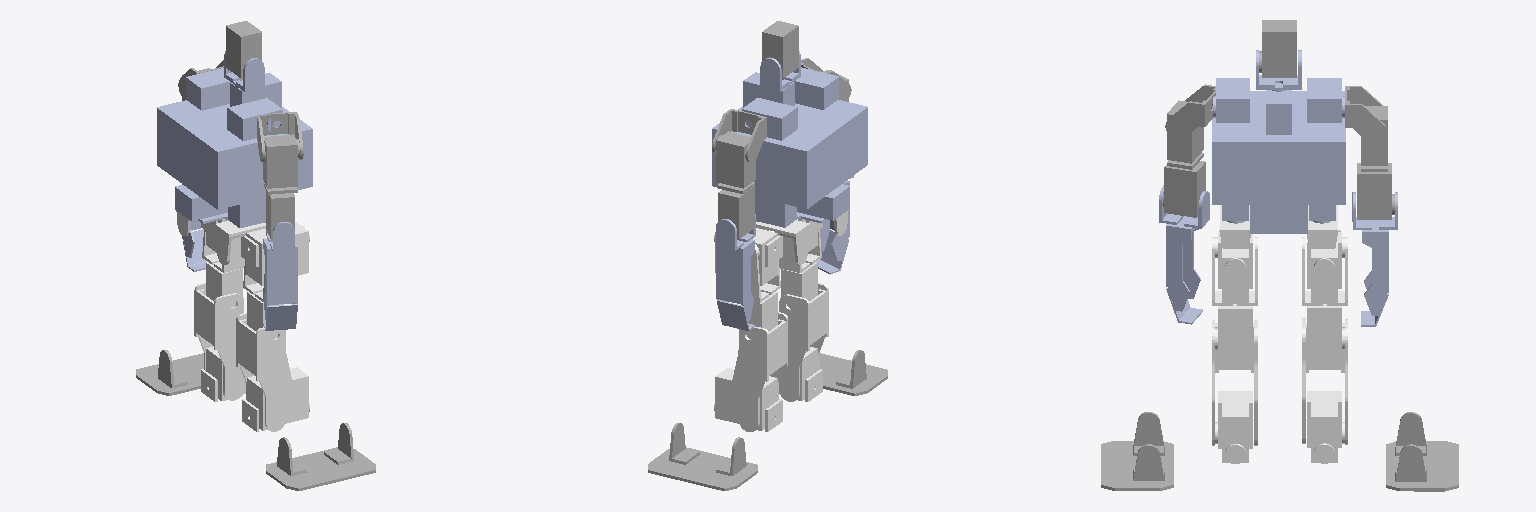
--- Facts derived from the render (not from the file) ---
Views: 3 orthographic renders of the robot side by side, from view 1: azimuth 30°, elevation 25°; view 2: azimuth 150°, elevation 25°; view 3: azimuth 270°, elevation 25°.
Robot: Dreko — 21 links, 20 joints (20 revolute); root link chest; default pose: all joints at 0.
Visible links, largest first — view 1: chest, right knee pitch, right ankle roll, left knee pitch, Right Gripper, Right Shoulder Roll, left ankle roll, right ankle pitch, left hip pitch, right hip roll, Head, Right_Shoulder_pitch (+5 smaller); view 2: chest, left knee pitch, left ankle roll, Left Gripper, Left Shoulder Roll, right knee pitch, right ankle roll, left ankle pitch, right hip pitch, left hip pitch, Head, Left Shoulder Pitch (+5 smaller); view 3: chest, left ankle roll, right ankle roll, Right Gripper, Right Shoulder Roll, Left Shoulder Roll, Left Gripper, right ankle pitch, left ankle pitch, right hip pitch, left hip pitch, Head (+9 smaller).
Boxes of the visible links, x1,y1,x2,y2 form: chest: (157,68,312,227); right knee pitch: (236,313,291,431); right ankle roll: (266,423,375,490); left knee pitch: (194,282,244,400); Right Gripper: (263,222,297,330); Right Shoulder Roll: (263,135,299,239); left ankle roll: (136,350,203,395); right ankle pitch: (242,367,309,431); left hip pitch: (202,219,244,306); right hip roll: (241,222,309,285); Head: (226,21,261,78); Right_Shoulder_pitch: (257,112,303,161); chest: (712,67,867,227); left knee pitch: (732,312,787,431); left ankle roll: (648,423,757,490); Left Gripper: (716,214,755,330); Left Shoulder Roll: (715,131,755,239); right knee pitch: (779,283,828,401); right ankle roll: (820,350,887,395); left ankle pitch: (714,368,782,431); right hip pitch: (779,219,821,308); left hip pitch: (746,229,780,338); Head: (762,21,798,78); Left Shoulder Pitch: (712,109,766,162); chest: (1212,78,1345,233); left ankle roll: (1386,412,1458,491); right ankle roll: (1101,412,1173,490); Right Gripper: (1159,185,1209,324); Right Shoulder Roll: (1163,100,1205,217); Left Shoulder Roll: (1357,106,1394,219); Left Gripper: (1352,192,1397,326); right ankle pitch: (1215,391,1252,463); left ankle pitch: (1307,391,1344,463); right hip pitch: (1212,237,1257,354); left hip pitch: (1302,237,1347,353); Head: (1259,20,1296,77).
Bounding box of the posed robot: 0.1327 × 0.3168 × 0.4258 m (x, y, z).
21 mesh visuals loaded from 21 distinct referenced files (21 binary STL).

robot.urdf — Dreko:
<robot
  name="Dreko">
  <link
    name="chest">
    <inertial>
      <origin
        xyz="0.0386669273658683 0.0140884820081456 0.290215764272227"
        rpy="0 0 0" />
      <mass
        value="0.740822124104116" />
      <inertia
        ixx="0.00152118060694842"
        ixy="-1.89735380184963E-18"
        ixz="6.06177382028129E-05"
        iyy="0.00131882473361287"
        iyz="2.71050543121376E-20"
        izz="0.00140522500372438" />
    </inertial>
    <visual>
      <origin
        xyz="0 0 0"
        rpy="0 0 0" />
      <geometry>
        <mesh
          filename="package://Dreko/meshes/chest.STL" />
      </geometry>
      <material
        name="">
        <color
          rgba="0.792156862745098 0.819607843137255 0.933333333333333 1" />
      </material>
    </visual>
    <collision>
      <origin
        xyz="0 0 0"
        rpy="0 0 0" />
      <geometry>
        <mesh
          filename="package://Dreko/meshes/chest.STL" />
      </geometry>
    </collision>
  </link>
  <link
    name="right hip yaw">
    <inertial>
      <origin
        xyz="-2.00031521237903E-05 0.0126391664016347 -0.0199633931822752"
        rpy="0 0 0" />
      <mass
        value="0.0155182096184455" />
      <inertia
        ixx="1.27383758643282E-05"
        ixy="-8.49150529622436E-20"
        ixz="6.35274710440725E-22"
        iyy="2.34004190539271E-06"
        iyz="-1.51404969675395E-08"
        izz="1.22052488200629E-05" />
    </inertial>
    <visual>
      <origin
        xyz="0 0 0"
        rpy="0 0 0" />
      <geometry>
        <mesh
          filename="package://Dreko/meshes/right hip yaw.STL" />
      </geometry>
      <material
        name="">
        <color
          rgba="1 1 1 1" />
      </material>
    </visual>
    <collision>
      <origin
        xyz="0 0 0"
        rpy="0 0 0" />
      <geometry>
        <mesh
          filename="package://Dreko/meshes/right hip yaw.STL" />
      </geometry>
    </collision>
  </link>
  <joint
    name="right hip yaw"
    type="revolute">
    <origin
      xyz="0.0499881209354321 -0.024401521143979 0.209414700698158"
      rpy="-3.14159265358979 8.88178419700125E-16 -1.57079632679488" />
    <parent
      link="chest" />
    <child
      link="right hip yaw" />
    <axis
      xyz="0 0 1" />
  </joint>
  <link
    name="right hip roll">
    <inertial>
      <origin
        xyz="0.0122610037315669 -0.00019356743892851 0.012734593446106"
        rpy="0 0 0" />
      <mass
        value="0.0692005181830974" />
      <inertia
        ixx="2.36910155439808E-05"
        ixy="1.46695929999879E-07"
        ixz="5.78090342943966E-07"
        iyy="3.0744764821142E-05"
        iyz="1.57059601561052E-07"
        izz="1.60316743915191E-05" />
    </inertial>
    <visual>
      <origin
        xyz="0 0 0"
        rpy="0 0 0" />
      <geometry>
        <mesh
          filename="package://Dreko/meshes/right hip roll.STL" />
      </geometry>
      <material
        name="">
        <color
          rgba="1 1 1 1" />
      </material>
    </visual>
    <collision>
      <origin
        xyz="0 0 0"
        rpy="0 0 0" />
      <geometry>
        <mesh
          filename="package://Dreko/meshes/right hip roll.STL" />
      </geometry>
    </collision>
  </link>
  <joint
    name="right hip roll"
    type="revolute">
    <origin
      xyz="0 0 0"
      rpy="1.5707963267949 -1.5707963267949 0" />
    <parent
      link="right hip yaw" />
    <child
      link="right hip roll" />
    <axis
      xyz="0 0 1" />
  </joint>
  <link
    name="right hip pitch">
    <inertial>
      <origin
        xyz="0.0644258242691838 0.000448849682669672 0.000371685382277762"
        rpy="0 0 0" />
      <mass
        value="0.0453826022606667" />
      <inertia
        ixx="8.44237699200824E-06"
        ixy="2.5237762848115E-07"
        ixz="1.49396394383443E-07"
        iyy="3.54510005946547E-05"
        iyz="1.22957827408421E-11"
        izz="3.11468056311057E-05" />
    </inertial>
    <visual>
      <origin
        xyz="0 0 0"
        rpy="0 0 0" />
      <geometry>
        <mesh
          filename="package://Dreko/meshes/right hip pitch.STL" />
      </geometry>
      <material
        name="">
        <color
          rgba="1 1 1 1" />
      </material>
    </visual>
    <collision>
      <origin
        xyz="0 0 0"
        rpy="0 0 0" />
      <geometry>
        <mesh
          filename="package://Dreko/meshes/right hip pitch.STL" />
      </geometry>
    </collision>
  </link>
  <joint
    name="right hip pitch"
    type="revolute">
    <origin
      xyz="0 0 0"
      rpy="1.5707963267949 5.55111512312578E-17 -2.77555756156289E-17" />
    <parent
      link="right hip roll" />
    <child
      link="right hip pitch" />
    <axis
      xyz="0 0 -1" />
  </joint>
  <link
    name="right knee pitch">
    <inertial>
      <origin
        xyz="0.0360433821800561 -0.00732939447238448 0.00170776679769151"
        rpy="0 0 0" />
      <mass
        value="0.0310504106720411" />
      <inertia
        ixx="1.31112864963239E-05"
        ixy="4.41749673249426E-06"
        ixz="-7.30565917006834E-21"
        iyy="3.61659917028807E-05"
        iyz="-3.3881317890172E-21"
        izz="3.05966878294176E-05" />
    </inertial>
    <visual>
      <origin
        xyz="0 0 0"
        rpy="0 0 0" />
      <geometry>
        <mesh
          filename="package://Dreko/meshes/right knee pitch.STL" />
      </geometry>
      <material
        name="">
        <color
          rgba="1 1 1 1" />
      </material>
    </visual>
    <collision>
      <origin
        xyz="0 0 0"
        rpy="0 0 0" />
      <geometry>
        <mesh
          filename="package://Dreko/meshes/right knee pitch.STL" />
      </geometry>
    </collision>
  </link>
  <joint
    name="right knee pitch"
    type="revolute">
    <origin
      xyz="0.0892760886206849 0.00188721596096714 -0.00108776364557142"
      rpy="1.0769163338864E-14 7.21644966006352E-16 8.88178419700126E-16" />
    <parent
      link="right hip pitch" />
    <child
      link="right knee pitch" />
    <axis
      xyz="0 0 1" />
  </joint>
  <link
    name="right ankle pitch">
    <inertial>
      <origin
        xyz="-0.0121336922782945 0.010799355323743 0.00344290774388731"
        rpy="0 0 0" />
      <mass
        value="0.0692005181830974" />
      <inertia
        ixx="2.36911816985084E-05"
        ixy="-5.78090342943989E-07"
        ixz="1.41842790503463E-07"
        iyy="1.60318405460471E-05"
        iyz="-1.42624304286741E-07"
        izz="3.07447648211417E-05" />
    </inertial>
    <visual>
      <origin
        xyz="0 0 0"
        rpy="0 0 0" />
      <geometry>
        <mesh
          filename="package://Dreko/meshes/right ankle pitch.STL" />
      </geometry>
      <material
        name="">
        <color
          rgba="1 1 1 1" />
      </material>
    </visual>
    <collision>
      <origin
        xyz="0 0 0"
        rpy="0 0 0" />
      <geometry>
        <mesh
          filename="package://Dreko/meshes/right ankle pitch.STL" />
      </geometry>
    </collision>
  </link>
  <joint
    name="right ankle pitch"
    type="revolute">
    <origin
      xyz="0.092025925845232 0.000658022161407784 -0.00216863718455219"
      rpy="1.99840144432528E-15 -2.77555756156289E-17 -1.0547118733939E-15" />
    <parent
      link="right knee pitch" />
    <child
      link="right ankle pitch" />
    <axis
      xyz="0 0 1" />
  </joint>
  <link
    name="right ankle roll">
    <inertial>
      <origin
        xyz="0.0233518455009303 -0.0874644794096805 0.00994466921597839"
        rpy="0 0 0" />
      <mass
        value="0.0309681647536877" />
      <inertia
        ixx="3.45937654431816E-05"
        ixy="-7.3522814365964E-07"
        ixz="-4.15046144154607E-20"
        iyy="2.79260402817556E-05"
        iyz="-1.9312351197398E-19"
        izz="1.02256743398885E-05" />
    </inertial>
    <visual>
      <origin
        xyz="0 0 0"
        rpy="0 0 0" />
      <geometry>
        <mesh
          filename="package://Dreko/meshes/right ankle roll.STL" />
      </geometry>
      <material
        name="">
        <color
          rgba="0.752941176470588 0.752941176470588 0.752941176470588 1" />
      </material>
    </visual>
    <collision>
      <origin
        xyz="0 0 0"
        rpy="0 0 0" />
      <geometry>
        <mesh
          filename="package://Dreko/meshes/right ankle roll.STL" />
      </geometry>
    </collision>
  </link>
  <joint
    name="right ankle roll"
    type="revolute">
    <origin
      xyz="0 0 0"
      rpy="-1.57079632679491 2.77555756156289E-17 -5.55111512312578E-17" />
    <parent
      link="right ankle pitch" />
    <child
      link="right ankle roll" />
    <axis
      xyz="0 0 1" />
  </joint>
  <link
    name="left hip yaw">
    <inertial>
      <origin
        xyz="0.000969999999999235 0.0126392590632947 -0.019963311270477"
        rpy="0 0 0" />
      <mass
        value="0.0155182096184456" />
      <inertia
        ixx="1.2738375864328E-05"
        ixy="3.03502492913056E-19"
        ixz="-5.75982404132924E-20"
        iyy="2.34004190539272E-06"
        iyz="-1.51404969675646E-08"
        izz="1.22052488200627E-05" />
    </inertial>
    <visual>
      <origin
        xyz="0 0 0"
        rpy="0 0 0" />
      <geometry>
        <mesh
          filename="package://Dreko/meshes/left hip yaw.STL" />
      </geometry>
      <material
        name="">
        <color
          rgba="1 1 1 1" />
      </material>
    </visual>
    <collision>
      <origin
        xyz="0 0 0"
        rpy="0 0 0" />
      <geometry>
        <mesh
          filename="package://Dreko/meshes/left hip yaw.STL" />
      </geometry>
    </collision>
  </link>
  <joint
    name="left hip yaw"
    type="revolute">
    <origin
      xyz="0.04998821359709 0.053528482008146 0.209414782609956"
      rpy="-3.14159265358979 9.43689570931383E-16 -1.5707963267949" />
    <parent
      link="chest" />
    <child
      link="left hip yaw" />
    <axis
      xyz="0 0 1" />
  </joint>
  <link
    name="left hip roll">
    <inertial>
      <origin
        xyz="0.0122610856433651 0.00113650376163997 0.0127346861077649"
        rpy="0 0 0" />
      <mass
        value="0.0692005181830974" />
      <inertia
        ixx="2.36911816985086E-05"
        ixy="-1.41842790503468E-07"
        ixz="5.78090342944068E-07"
        iyy="3.07447648211419E-05"
        iyz="-1.42624304286701E-07"
        izz="1.6031840546047E-05" />
    </inertial>
    <visual>
      <origin
        xyz="0 0 0"
        rpy="0 0 0" />
      <geometry>
        <mesh
          filename="package://Dreko/meshes/left hip roll.STL" />
      </geometry>
      <material
        name="">
        <color
          rgba="1 1 1 1" />
      </material>
    </visual>
    <collision>
      <origin
        xyz="0 0 0"
        rpy="0 0 0" />
      <geometry>
        <mesh
          filename="package://Dreko/meshes/left hip roll.STL" />
      </geometry>
    </collision>
  </link>
  <joint
    name="left hip roll"
    type="revolute">
    <origin
      xyz="0 0 0"
      rpy="1.5707963267949 -1.5707963267949 0" />
    <parent
      link="left hip yaw" />
    <child
      link="left hip roll" />
    <axis
      xyz="0 0 1" />
  </joint>
  <link
    name="left hip pitch">
    <inertial>
      <origin
        xyz="0.0644259061809818 1.80411241501588E-15 0.00132168223016009"
        rpy="0 0 0" />
      <mass
        value="0.0453826022606668" />
      <inertia
        ixx="8.43909557565386E-06"
        ixy="1.84441424264624E-19"
        ixz="1.4939639438398E-07"
        iyy="3.54510005946551E-05"
        iyz="-4.31986803099693E-20"
        izz="3.11435242147515E-05" />
    </inertial>
    <visual>
      <origin
        xyz="0 0 0"
        rpy="0 0 0" />
      <geometry>
        <mesh
          filename="package://Dreko/meshes/left hip pitch.STL" />
      </geometry>
      <material
        name="">
        <color
          rgba="1 1 1 1" />
      </material>
    </visual>
    <collision>
      <origin
        xyz="0 0 0"
        rpy="0 0 0" />
      <geometry>
        <mesh
          filename="package://Dreko/meshes/left hip pitch.STL" />
      </geometry>
    </collision>
  </link>
  <joint
    name="left hip pitch"
    type="revolute">
    <origin
      xyz="0 0 0"
      rpy="-1.5707963267949 1.11022302462516E-16 0" />
    <parent
      link="left hip roll" />
    <child
      link="left hip pitch" />
    <axis
      xyz="0 0 1" />
  </joint>
  <link
    name="left knee pitch">
    <inertial>
      <origin
        xyz="0.0409401274845462 -0.0181769433245862 -0.00442602569160809"
        rpy="0 0 0" />
      <mass
        value="0.0310504106720411" />
      <inertia
        ixx="1.31112864963239E-05"
        ixy="-4.35795828735624E-06"
        ixz="2.78655107901321E-07"
        iyy="3.59981299978743E-05"
        iyz="6.26804380968182E-20"
        izz="3.04288261244113E-05" />
    </inertial>
    <visual>
      <origin
        xyz="0 0 0"
        rpy="0 0 0" />
      <geometry>
        <mesh
          filename="package://Dreko/meshes/left knee pitch.STL" />
      </geometry>
      <material
        name="">
        <color
          rgba="1 1 1 1" />
      </material>
    </visual>
    <collision>
      <origin
        xyz="0 0 0"
        rpy="0 0 0" />
      <geometry>
        <mesh
          filename="package://Dreko/meshes/left knee pitch.STL" />
      </geometry>
    </collision>
  </link>
  <joint
    name="left knee pitch"
    type="revolute">
    <origin
      xyz="0.0839007969125189 0.0242290291743455 0.00599602569161375"
      rpy="-1.22124532708767E-15 -3.05311331771918E-16 4.99600361081321E-16" />
    <parent
      link="left hip pitch" />
    <child
      link="left knee pitch" />
    <axis
      xyz="0 0 -1" />
  </joint>
  <link
    name="left ankle pitch">
    <inertial>
      <origin
        xyz="-0.012261073166329 -0.0127702108020288 0.00385902653421848"
        rpy="0 0 0" />
      <mass
        value="0.0692005181830974" />
      <inertia
        ixx="2.36910155439805E-05"
        ixy="5.78090342943977E-07"
        ixz="1.46695929999862E-07"
        iyy="1.60316743915191E-05"
        iyz="1.57059601561724E-07"
        izz="3.07447648211417E-05" />
    </inertial>
    <visual>
      <origin
        xyz="0 0 0"
        rpy="0 0 0" />
      <geometry>
        <mesh
          filename="package://Dreko/meshes/left ankle pitch.STL" />
      </geometry>
      <material
        name="">
        <color
          rgba="1 1 1 1" />
      </material>
    </visual>
    <collision>
      <origin
        xyz="0 0 0"
        rpy="0 0 0" />
      <geometry>
        <mesh
          filename="package://Dreko/meshes/left ankle pitch.STL" />
      </geometry>
    </collision>
  </link>
  <joint
    name="left ankle pitch"
    type="revolute">
    <origin
      xyz="0.0975286803532308 -0.0241935044800929 -0.00871148793902048"
      rpy="1.27675647831893E-15 1.66533453693773E-16 -2.22044604925031E-16" />
    <parent
      link="left knee pitch" />
    <child
      link="left ankle pitch" />
    <axis
      xyz="0 0 -1" />
  </joint>
  <link
    name="left ankle roll">
    <inertial>
      <origin
        xyz="0.0232296760089229 0.0878568180406127 0.013135524694265"
        rpy="0 0 0" />
      <mass
        value="0.0309681647536877" />
      <inertia
        ixx="3.459270350368E-05"
        ixy="7.40027037512043E-07"
        ixz="-2.60462631280697E-20"
        iyy="2.79271022212574E-05"
        iyz="-1.67289007082724E-20"
        izz="1.02256743398885E-05" />
    </inertial>
    <visual>
      <origin
        xyz="0 0 0"
        rpy="0 0 0" />
      <geometry>
        <mesh
          filename="package://Dreko/meshes/left ankle roll.STL" />
      </geometry>
      <material
        name="">
        <color
          rgba="0.752941176470588 0.752941176470588 0.752941176470588 1" />
      </material>
    </visual>
    <collision>
      <origin
        xyz="0 0 0"
        rpy="0 0 0" />
      <geometry>
        <mesh
          filename="package://Dreko/meshes/left ankle roll.STL" />
      </geometry>
    </collision>
  </link>
  <joint
    name="left ankle roll"
    type="revolute">
    <origin
      xyz="0 0 0"
      rpy="1.5707963267949 2.77555756156289E-17 -5.55111512312578E-17" />
    <parent
      link="left ankle pitch" />
    <child
      link="left ankle roll" />
    <axis
      xyz="0 0 1" />
  </joint>
  <link
    name="Neck Yaw">
    <inertial>
      <origin
        xyz="8.88178419700125E-16 -1.62370117351429E-15 0.00782298382889424"
        rpy="0 0 0" />
      <mass
        value="0.00700186716833822" />
      <inertia
        ixx="2.39456488978734E-06"
        ixy="1.12496563307212E-20"
        ixz="0"
        iyy="9.07121040996484E-07"
        iyz="-2.76609196837732E-21"
        izz="2.03656835480001E-06" />
    </inertial>
    <visual>
      <origin
        xyz="0 0 0"
        rpy="0 0 0" />
      <geometry>
        <mesh
          filename="package://Dreko/meshes/Neck Yaw.STL" />
      </geometry>
      <material
        name="">
        <color
          rgba="0.792156862745098 0.819607843137255 0.933333333333333 1" />
      </material>
    </visual>
    <collision>
      <origin
        xyz="0 0 0"
        rpy="0 0 0" />
      <geometry>
        <mesh
          filename="package://Dreko/meshes/Neck Yaw.STL" />
      </geometry>
    </collision>
  </link>
  <joint
    name="neck_yaw"
    type="revolute">
    <origin
      xyz="0.0490982135970893 0.0140884820081444 0.370454782609955"
      rpy="-7.49400541621981E-16 3.33066907387547E-16 1.24344978758018E-14" />
    <parent
      link="chest" />
    <child
      link="Neck Yaw" />
    <axis
      xyz="0 0 1" />
  </joint>
  <link
    name="Head">
    <inertial>
      <origin
        xyz="0.0126164480094711 -1.83186799063151E-15 -0.000247714271309984"
        rpy="0 0 0" />
      <mass
        value="0.0334002817224662" />
      <inertia
        ixx="4.31570771493238E-06"
        ixy="-2.043466985251E-20"
        ixz="-1.4845071112931E-07"
        iyy="8.35330194280809E-06"
        iyz="-6.35274710440725E-22"
        izz="7.15068670371789E-06" />
    </inertial>
    <visual>
      <origin
        xyz="0 0 0"
        rpy="0 0 0" />
      <geometry>
        <mesh
          filename="package://Dreko/meshes/Head.STL" />
      </geometry>
      <material
        name="">
        <color
          rgba="0.752941176470588 0.752941176470588 0.752941176470588 1" />
      </material>
    </visual>
    <collision>
      <origin
        xyz="0 0 0"
        rpy="0 0 0" />
      <geometry>
        <mesh
          filename="package://Dreko/meshes/Head.STL" />
      </geometry>
    </collision>
  </link>
  <joint
    name="head"
    type="revolute">
    <origin
      xyz="0 0 0.0200000000000001"
      rpy="1.57079632679491 -1.5707963267949 0" />
    <parent
      link="Neck Yaw" />
    <child
      link="Head" />
    <axis
      xyz="0 0 1" />
  </joint>
  <link
    name="Right_Shoulder_pitch">
    <inertial>
      <origin
        xyz="0.00558133072353895 -5.2849391529719E-13 0.0114662844017621"
        rpy="0 0 0" />
      <mass
        value="0.00751439844292765" />
      <inertia
        ixx="3.11469819991558E-06"
        ixy="2.2387965770175E-09"
        ixz="4.81334886525289E-07"
        iyy="1.57281484696627E-06"
        iyz="-2.9297757914783E-17"
        izz="2.88180850470474E-06" />
    </inertial>
    <visual>
      <origin
        xyz="0 0 0"
        rpy="0 0 0" />
      <geometry>
        <mesh
          filename="package://Dreko/meshes/Right_Shoulder_pitch.STL" />
      </geometry>
      <material
        name="">
        <color
          rgba="0.752941176470588 0.752941176470588 0.752941176470588 1" />
      </material>
    </visual>
    <collision>
      <origin
        xyz="0 0 0"
        rpy="0 0 0" />
      <geometry>
        <mesh
          filename="package://Dreko/meshes/Right_Shoulder_pitch.STL" />
      </geometry>
    </collision>
  </link>
  <joint
    name="right_shoulder_pitch"
    type="revolute">
    <origin
      xyz="0.0507982135970879 -0.0464115179918542 0.347544782609955"
      rpy="-0.321750554396642 1.57079630572147 -2.24553726901845" />
    <parent
      link="chest" />
    <child
      link="Right_Shoulder_pitch" />
    <axis
      xyz="0 0 1" />
  </joint>
  <link
    name="Right Shoulder Roll">
    <inertial>
      <origin
        xyz="0.0399514039217449 -0.000170185942904716 0.000128816315440261"
        rpy="0 0 0" />
      <mass
        value="0.0691387454449324" />
      <inertia
        ixx="8.91637711544482E-06"
        ixy="-4.6983587493018E-07"
        ixz="-4.11255380924923E-07"
        iyy="6.5511904981982E-05"
        iyz="1.51570977959221E-09"
        izz="6.54575685443201E-05" />
    </inertial>
    <visual>
      <origin
        xyz="0 0 0"
        rpy="0 0 0" />
      <geometry>
        <mesh
          filename="package://Dreko/meshes/Right Shoulder Roll.STL" />
      </geometry>
      <material
        name="">
        <color
          rgba="0.752941176470588 0.752941176470588 0.752941176470588 1" />
      </material>
    </visual>
    <collision>
      <origin
        xyz="0 0 0"
        rpy="0 0 0" />
      <geometry>
        <mesh
          filename="package://Dreko/meshes/Right Shoulder Roll.STL" />
      </geometry>
    </collision>
  </link>
  <joint
    name="right_shoulder_roll"
    type="revolute">
    <origin
      xyz="0.0160204441678972 -0.000517238591702635 0.0244494897430001"
      rpy="-1.5707963267949 7.7715611723761E-16 -0.00103605167868147" />
    <parent
      link="Right_Shoulder_pitch" />
    <child
      link="Right Shoulder Roll" />
    <axis
      xyz="-0.00103605149333225 0 0.999999463298507" />
  </joint>
  <link
    name="Right Gripper">
    <inertial>
      <origin
        xyz="0.0427703000156814 3.55174056531626E-05 0.00333467633197994"
        rpy="0 0 0" />
      <mass
        value="0.0179301251479615" />
      <inertia
        ixx="3.84682862576818E-06"
        ixy="2.77836661793961E-08"
        ixz="6.03933928620474E-07"
        iyy="2.18208069397704E-05"
        iyz="-2.42795066787969E-09"
        izz="2.14011298263219E-05" />
    </inertial>
    <visual>
      <origin
        xyz="0 0 0"
        rpy="0 0 0" />
      <geometry>
        <mesh
          filename="package://Dreko/meshes/Right Gripper.STL" />
      </geometry>
      <material
        name="">
        <color
          rgba="0.792156862745098 0.819607843137255 0.933333333333333 1" />
      </material>
    </visual>
    <collision>
      <origin
        xyz="0 0 0"
        rpy="0 0 0" />
      <geometry>
        <mesh
          filename="package://Dreko/meshes/Right Gripper.STL" />
      </geometry>
    </collision>
  </link>
  <joint
    name="right_gripper"
    type="revolute">
    <origin
      xyz="0.0798815588126549 0 0"
      rpy="1.5707963267949 0 2.77555756156289E-17" />
    <parent
      link="Right Shoulder Roll" />
    <child
      link="Right Gripper" />
    <axis
      xyz="0 0 -1" />
  </joint>
  <link
    name="Left Shoulder Pitch">
    <inertial>
      <origin
        xyz="0.00558133072361056 -5.39374100938517E-13 0.0114662844018069"
        rpy="0 0 0" />
      <mass
        value="0.00751439844298806" />
      <inertia
        ixx="3.11469819994021E-06"
        ixy="2.23879657548432E-09"
        ixz="4.81334886531278E-07"
        iyy="1.57281484697983E-06"
        iyz="-2.84509896653247E-17"
        izz="2.88180850473186E-06" />
    </inertial>
    <visual>
      <origin
        xyz="0 0 0"
        rpy="0 0 0" />
      <geometry>
        <mesh
          filename="package://Dreko/meshes/Left Shoulder Pitch.STL" />
      </geometry>
      <material
        name="">
        <color
          rgba="0.752941176470588 0.752941176470588 0.752941176470588 1" />
      </material>
    </visual>
    <collision>
      <origin
        xyz="0 0 0"
        rpy="0 0 0" />
      <geometry>
        <mesh
          filename="package://Dreko/meshes/Left Shoulder Pitch.STL" />
      </geometry>
    </collision>
  </link>
  <joint
    name="left_shoulder_pitch"
    type="revolute">
    <origin
      xyz="0.0507982135970863 0.0745884820081459 0.347544782609955"
      rpy="0.137066174310188 1.57079630572147 1.71269338139906" />
    <parent
      link="chest" />
    <child
      link="Left Shoulder Pitch" />
    <axis
      xyz="0 0 1" />
  </joint>
  <link
    name="Left Shoulder Roll">
    <inertial>
      <origin
        xyz="0.0399085532172735 0.0001701859429038 0.000211555387698154"
        rpy="0 0 0" />
      <mass
        value="0.0691387454449323" />
      <inertia
        ixx="8.91832420348637E-06"
        ixy="4.69831725577745E-07"
        ixz="-5.28410706625596E-07"
        iyy="6.55119049819817E-05"
        iyz="-2.48925432286584E-09"
        izz="6.54556214562782E-05" />
    </inertial>
    <visual>
      <origin
        xyz="0 0 0"
        rpy="0 0 0" />
      <geometry>
        <mesh
          filename="package://Dreko/meshes/Left Shoulder Roll.STL" />
      </geometry>
      <material
        name="">
        <color
          rgba="0.752941176470588 0.752941176470588 0.752941176470588 1" />
      </material>
    </visual>
    <collision>
      <origin
        xyz="0 0 0"
        rpy="0 0 0" />
      <geometry>
        <mesh
          filename="package://Dreko/meshes/Left Shoulder Roll.STL" />
      </geometry>
    </collision>
  </link>
  <joint
    name="left_shoulder_roll"
    type="revolute">
    <origin
      xyz="0.0160216873839817 0.000682716647401216 0.024449489743"
      rpy="1.57079632679489 6.63358257213531E-15 -0.00103605167868236" />
    <parent
      link="Left Shoulder Pitch" />
    <child
      link="Left Shoulder Roll" />
    <axis
      xyz="0.0010360514933343 0 0.999999463298507" />
  </joint>
  <link
    name="Left Gripper">
    <inertial>
      <origin
        xyz="0.0427703000155136 3.55174052363572E-05 0.00333467633215639"
        rpy="0 0 0" />
      <mass
        value="0.017930125148561" />
      <inertia
        ixx="3.84682862581678E-06"
        ixy="2.77836662000269E-08"
        ixz="6.03933928607543E-07"
        iyy="2.18208069395448E-05"
        iyz="-2.42795069404199E-09"
        izz="2.1401129826153E-05" />
    </inertial>
    <visual>
      <origin
        xyz="0 0 0"
        rpy="0 0 0" />
      <geometry>
        <mesh
          filename="package://Dreko/meshes/Left Gripper.STL" />
      </geometry>
      <material
        name="">
        <color
          rgba="0.792156862745098 0.819607843137255 0.933333333333333 1" />
      </material>
    </visual>
    <collision>
      <origin
        xyz="0 0 0"
        rpy="0 0 0" />
      <geometry>
        <mesh
          filename="package://Dreko/meshes/Left Gripper.STL" />
      </geometry>
    </collision>
  </link>
  <joint
    name="left_gripper"
    type="revolute">
    <origin
      xyz="0.0798383554653828 0 0"
      rpy="-1.57079632679486 -5.55111512312578E-17 2.77555756156289E-17" />
    <parent
      link="Left Shoulder Roll" />
    <child
      link="Left Gripper" />
    <axis
      xyz="0 0 -1" />
  </joint>
</robot>
